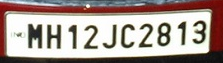1: (68, 24, 79, 49), (177, 21, 188, 46)
2: (82, 23, 99, 50), (138, 23, 154, 48)
3: (191, 19, 206, 44)
8: (157, 22, 172, 47)
C: (120, 23, 136, 49)
H: (46, 24, 62, 49)
J: (101, 23, 117, 49)
M: (27, 22, 43, 49)
